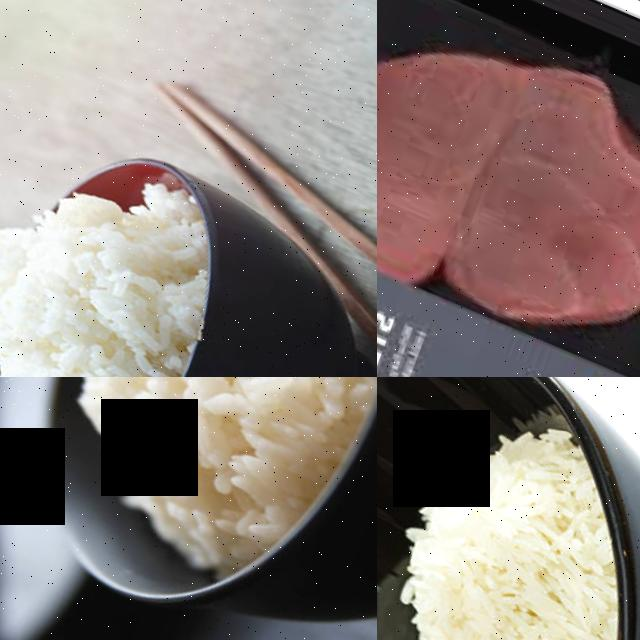tuna: (435, 45, 640, 362), (377, 0, 532, 297)
white rice: (4, 377, 377, 610), (0, 154, 218, 377), (377, 489, 640, 640)
